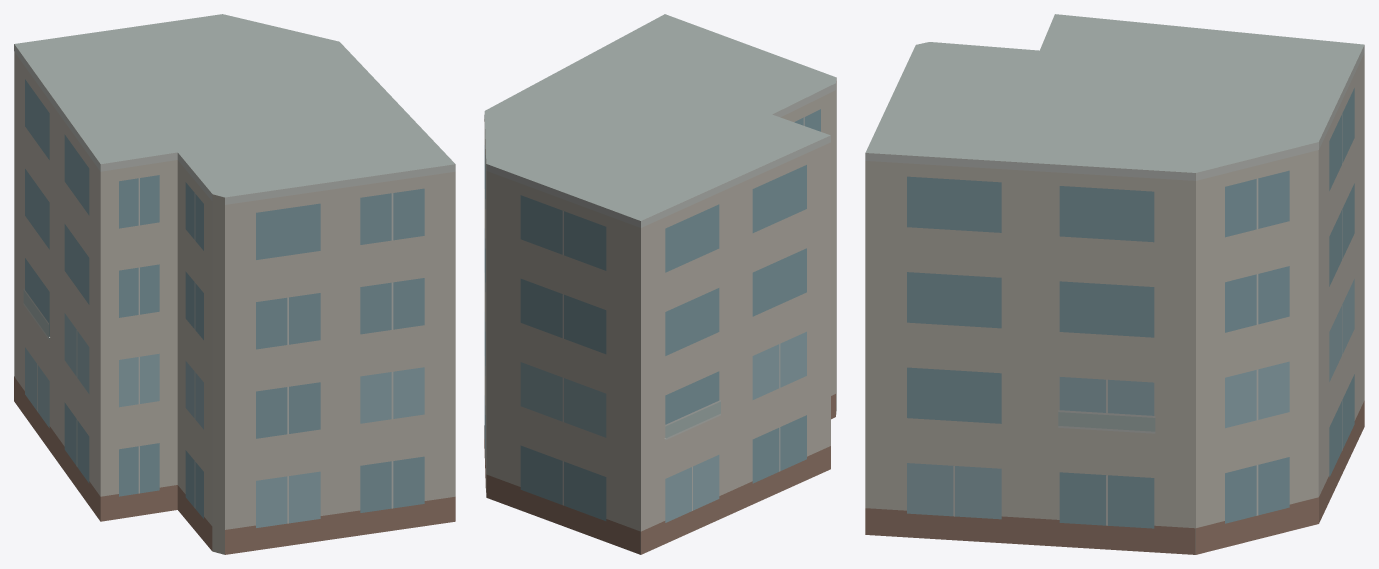
Rendered from survey-upis-32646396.glb.
The picture shows the model from 3 angles, left to right: view 1: azimuth 30°, elevation 25°; view 2: azimuth 150°, elevation 25°; view 3: azimuth 270°, elevation 25°; orthographic projection. The views are drawn at different scales.
Visible parts, largest first — view 1: survey-upis-32646396.tmp; view 2: survey-upis-32646396.tmp; view 3: survey-upis-32646396.tmp.
Boxes of the visible parts, x1,y1,x2,y2 form: survey-upis-32646396.tmp: (14,14,455,554); survey-upis-32646396.tmp: (484,14,836,554); survey-upis-32646396.tmp: (865,14,1364,554).
Bounding box in the file's own units: 10.46 × 11.7 × 13.87.
